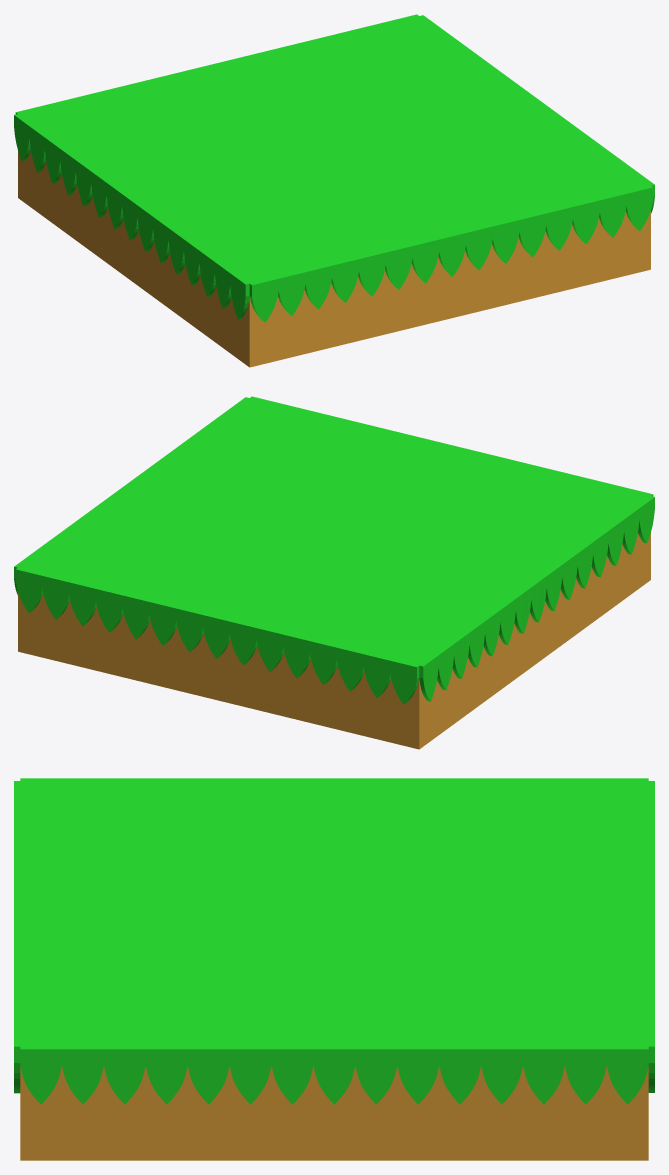
3 renders of one model, top to bottom at view 1: azimuth 30°, elevation 25°; view 2: azimuth 150°, elevation 25°; view 3: azimuth 270°, elevation 25°, orthographic. The views are drawn at different scales.
Parts seen in each view (by area): view 1: Grassfield, Dirtblock; view 2: Grassfield, Dirtblock; view 3: Grassfield, Dirtblock.
Boxes of the visible parts, box(x1,y1,x2,y2) form: Grassfield: box(14, 14, 654, 322); Dirtblock: box(18, 151, 650, 367); Grassfield: box(14, 396, 654, 704); Dirtblock: box(18, 533, 650, 749); Grassfield: box(14, 778, 654, 1104); Dirtblock: box(20, 1065, 648, 1160).
Size of the model in its own units: 510 by 100 by 510.
